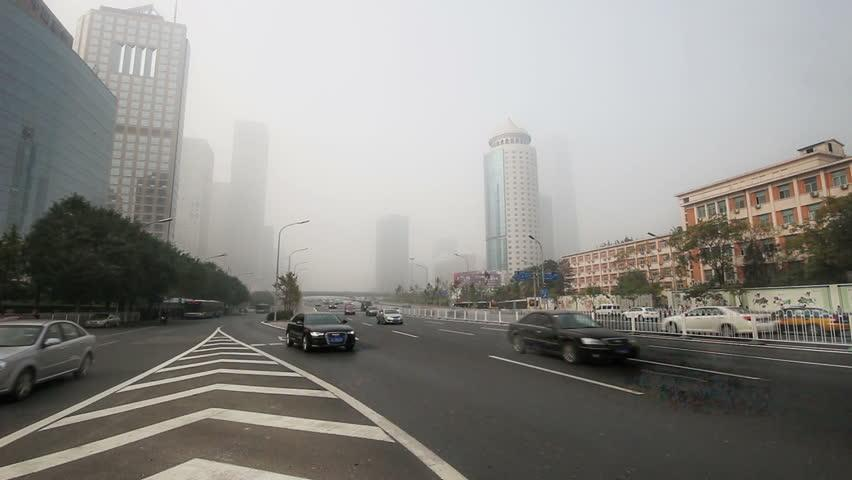bus: (494, 295, 540, 317), (182, 299, 226, 319), (451, 300, 491, 317), (255, 303, 270, 314)
car: (1, 316, 97, 400), (509, 311, 640, 364), (660, 306, 761, 338), (286, 312, 357, 352), (766, 304, 851, 337), (621, 307, 659, 322), (82, 313, 120, 328), (375, 308, 404, 325), (592, 304, 622, 316), (366, 306, 381, 316), (344, 303, 356, 315)
